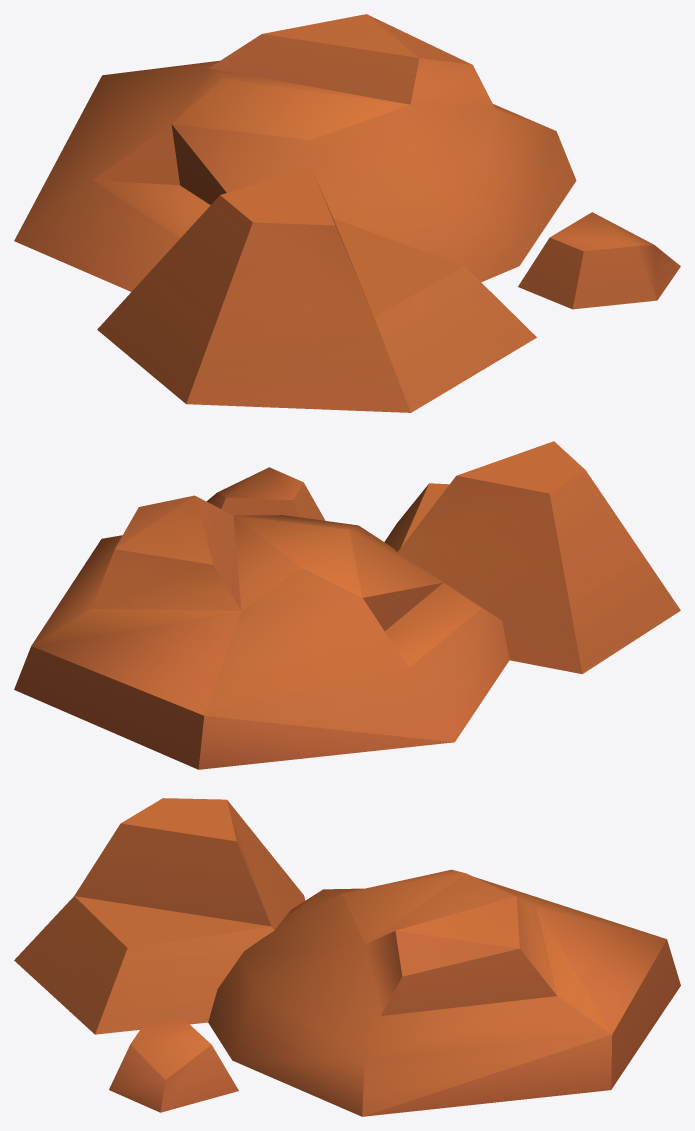
The model's file is rocks-a.glb.
3 renders of one model, top to bottom at view 1: azimuth 30°, elevation 25°; view 2: azimuth 150°, elevation 25°; view 3: azimuth 270°, elevation 25°, orthographic. The views are drawn at different scales.
Parts seen in each view (by area): view 1: rocks_A; view 2: rocks_A; view 3: rocks_A.
Part boxes in pixels (x1,y1,x2,y2): rocks_A: (14, 14, 680, 412); rocks_A: (14, 441, 680, 769); rocks_A: (14, 798, 680, 1116).
Bounding box in the file's own units: 1.31 × 0.354 × 1.64.
1 material, 1 textured.
